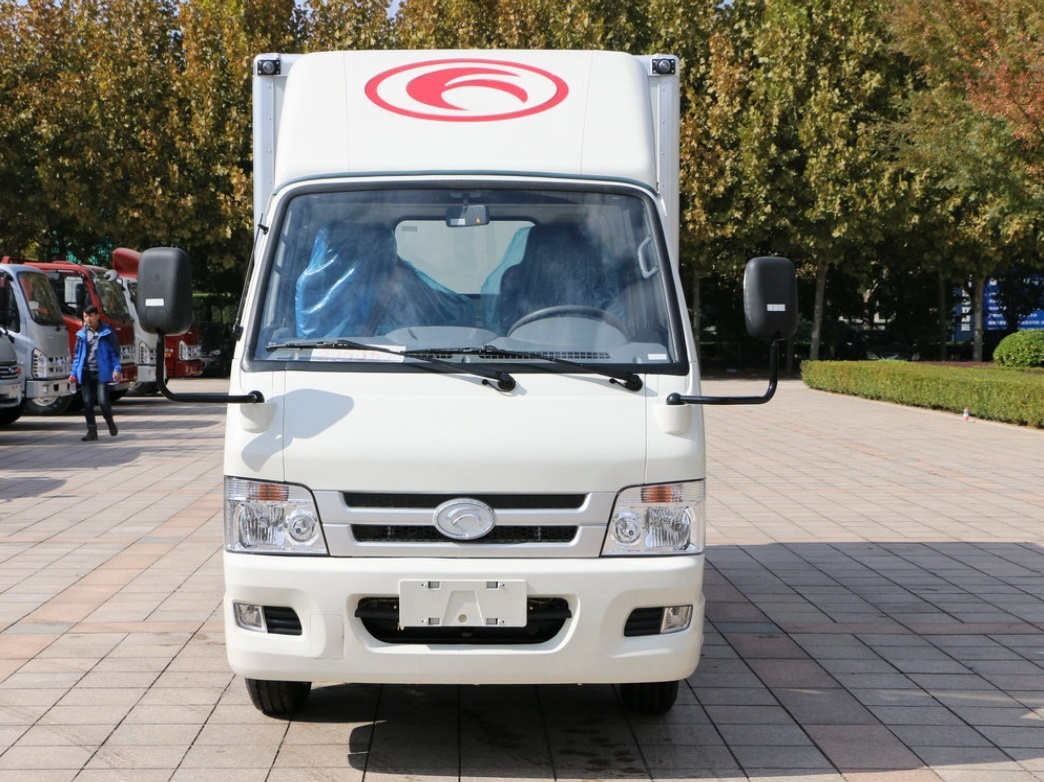truck: (217, 48, 712, 718)
